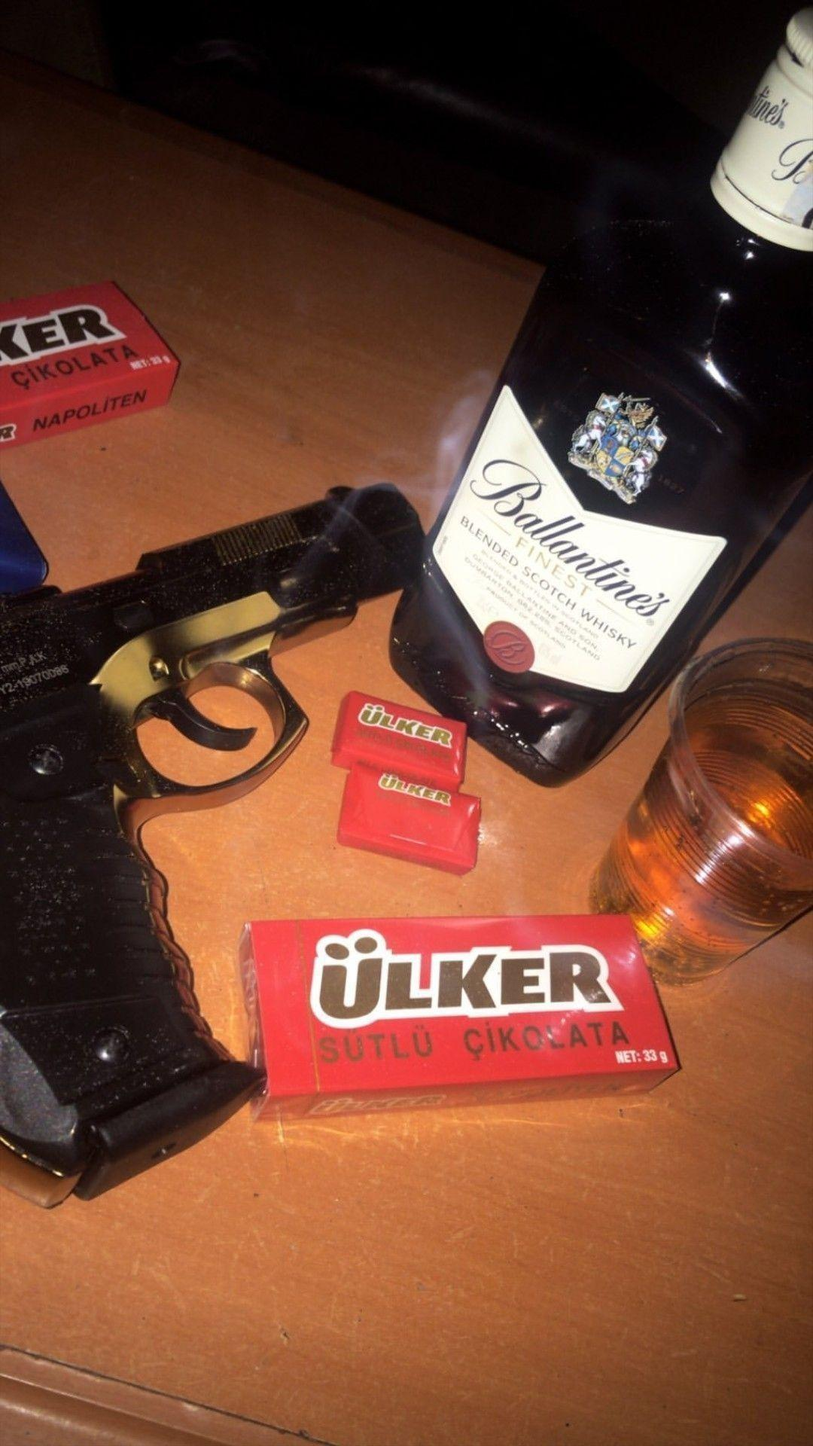bottle-glass: (381, 1, 810, 789)
glass-normal: (577, 634, 812, 987)
